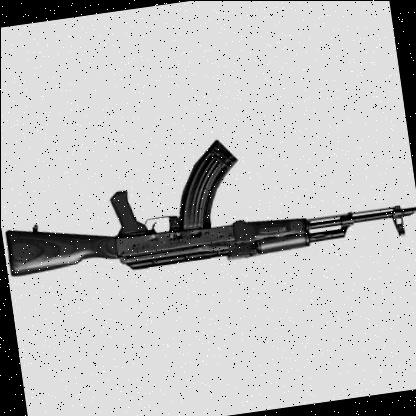rifle: (0, 115, 416, 321)
